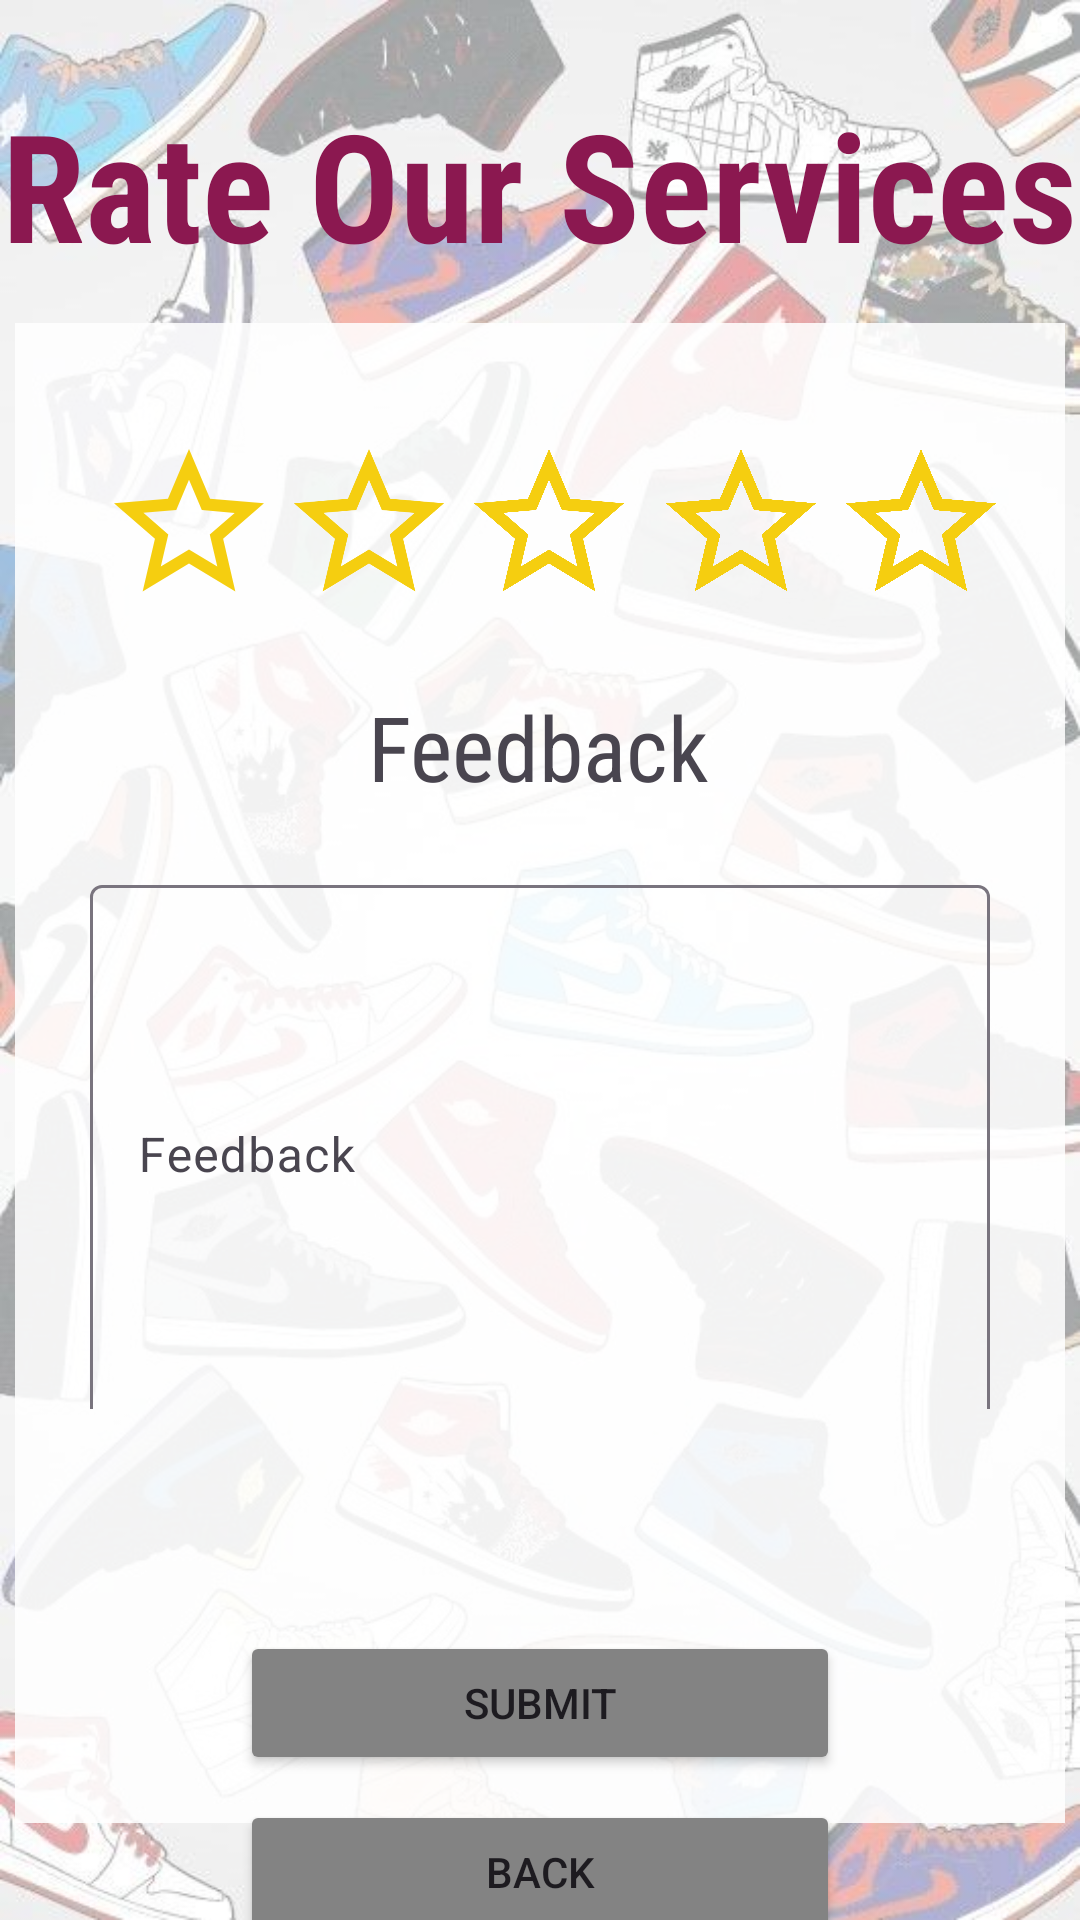

Icon click points for this 1080px x 1920px phone screenshot, format (x,y):
empty sar: (189,520), (369,520), (549,520), (741,520), (921,520)
